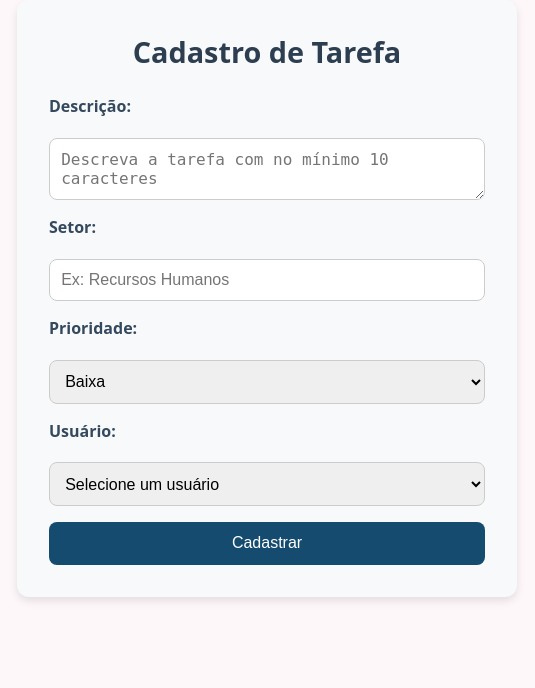
it: CadastroTarefa - Testes completos › 8. Deve exibir erro se o setor contiver números
This screenshot has width=535, height=688.
Type "Descrição válida" into the text box labelled "Descrição:" at [267, 169], box top-left (49, 138), bottom-right (485, 200)
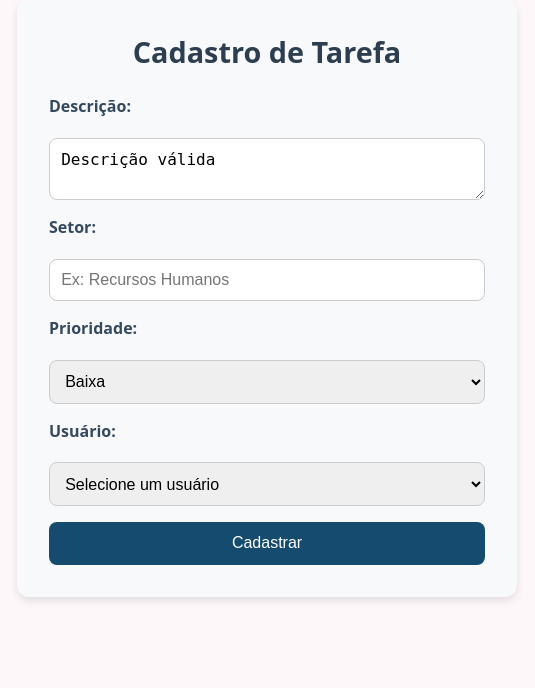
Type "TI123" into the field labelled "Setor:" at [267, 280], box top-left (49, 259), bottom-right (485, 301)
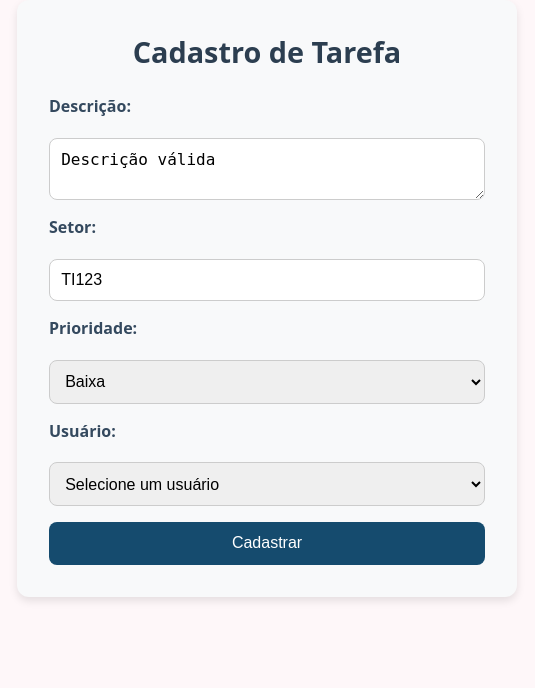
Select "1" in the dropdown labelled "Usuário:" at [267, 484], box top-left (49, 462), bottom-right (485, 506)
Click the button at [267, 544], box top-left (49, 522), bottom-right (485, 565)
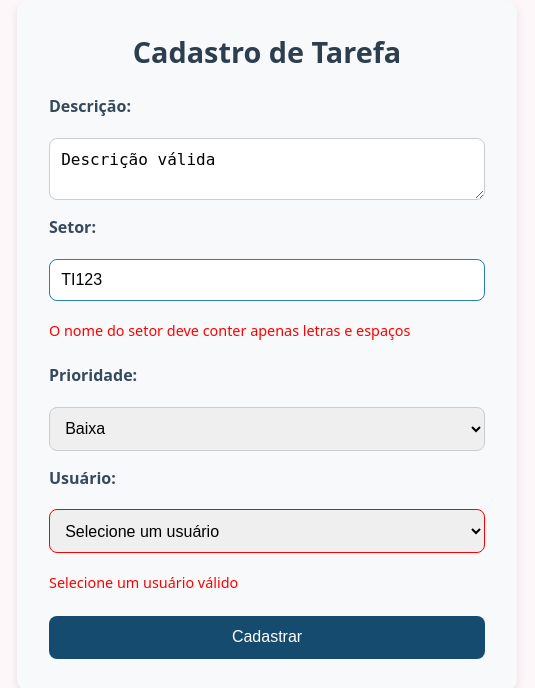
expect the text "O nome do setor deve conter apenas letras e espaços" is shown: met, box top-left (49, 321), bottom-right (410, 340)
